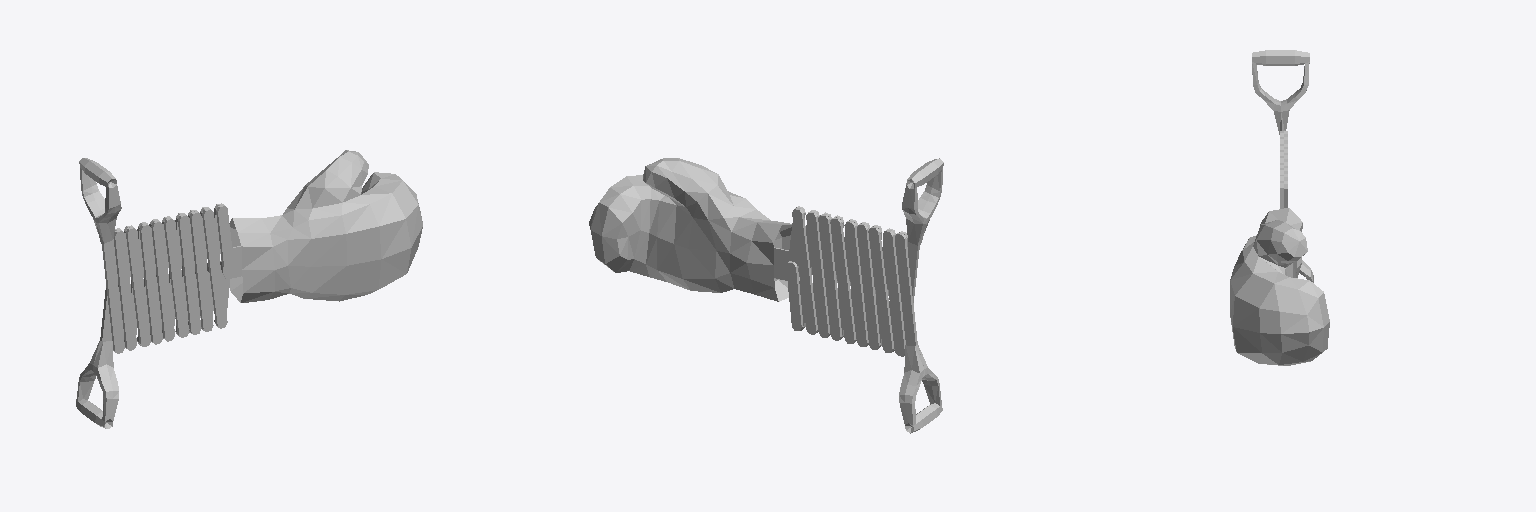
File: extendo punch.obj
3 renders of one model, left to right at view 1: azimuth 30°, elevation 25°; view 2: azimuth 150°, elevation 25°; view 3: azimuth 270°, elevation 25°, orthographic.
Visible parts, largest first — view 1: Prop_Joker_Extendo; view 2: Prop_Joker_Extendo; view 3: Prop_Joker_Extendo.
Part boxes in pixels (bbox=[...]): Prop_Joker_Extendo: bbox=[76, 150, 422, 428]; Prop_Joker_Extendo: bbox=[589, 158, 943, 433]; Prop_Joker_Extendo: bbox=[1230, 50, 1329, 365].
Bounding box in the file's own units: 5.14 × 3.81 × 1.35.